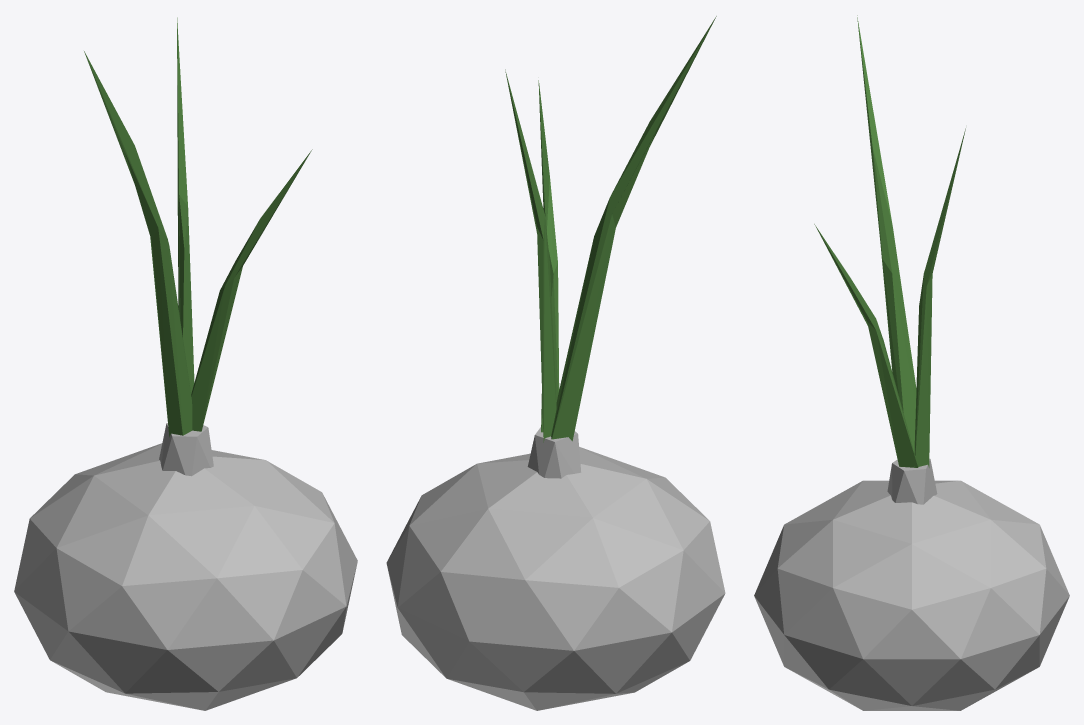
The model's file is SM_Food_Garlic_01.fbx.
3 views of the same model, side by side, from view 1: azimuth 30°, elevation 25°; view 2: azimuth 150°, elevation 25°; view 3: azimuth 270°, elevation 25° (orthographic). The views are drawn at different scales.
Parts seen in each view (by area): view 1: SM_Food_Garlic_01; view 2: SM_Food_Garlic_01; view 3: SM_Food_Garlic_01.
Part boxes in pixels (<box>): SM_Food_Garlic_01: <box>14,17,357,710</box>; SM_Food_Garlic_01: <box>386,16,725,710</box>; SM_Food_Garlic_01: <box>754,15,1069,710</box>.
Size of the model in its own units: 0.0907 by 0.2128 by 0.0954.
